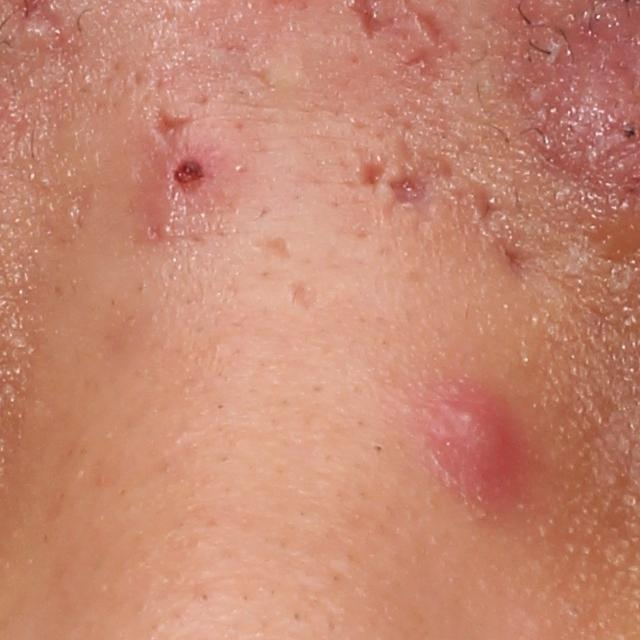atrophic_scar: (467, 175, 508, 239), (386, 166, 439, 208), (239, 232, 295, 264), (148, 103, 193, 139), (288, 274, 328, 313), (351, 155, 393, 191)
papule: (426, 365, 524, 504), (141, 139, 237, 227)
